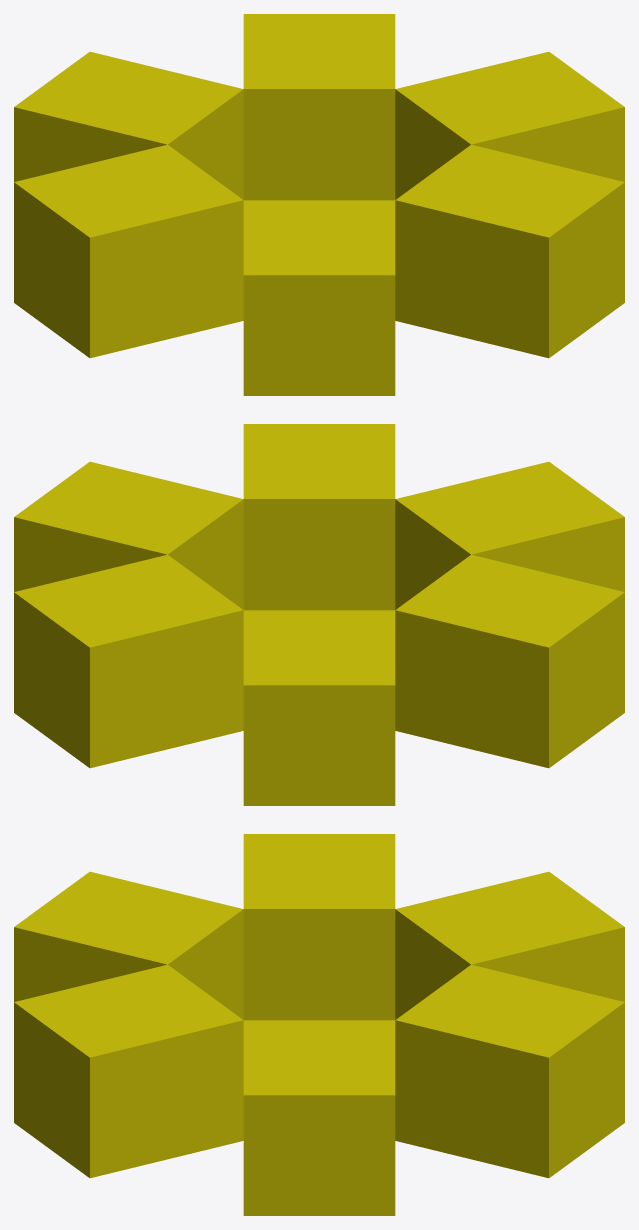
Rendered from hoop.dae.
3 renders of one model, top to bottom at view 1: azimuth 30°, elevation 25°; view 2: azimuth 150°, elevation 25°; view 3: azimuth 270°, elevation 25°, orthographic.
Visible parts, largest first — view 1: Cylinder_017; view 2: Cylinder_017; view 3: Cylinder_017.
Boxes of the visible parts, x1,y1,x2,y2 form: Cylinder_017: (14,14,624,395); Cylinder_017: (14,424,624,805); Cylinder_017: (14,834,624,1215).
Size of the model in its own units: 6.68 by 6.6 by 1.44.
